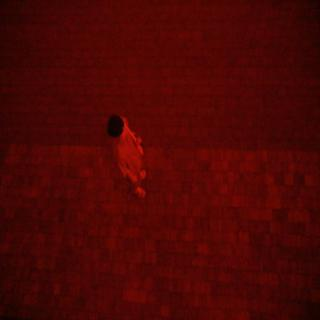person: (91, 103, 160, 214)
